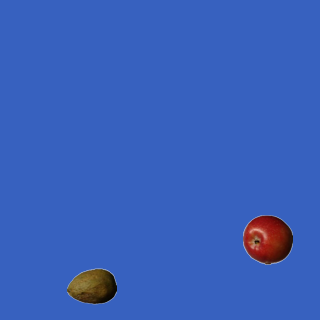Apple Braeburn: (242, 214, 292, 264)
Papaya: (66, 261, 116, 311)
